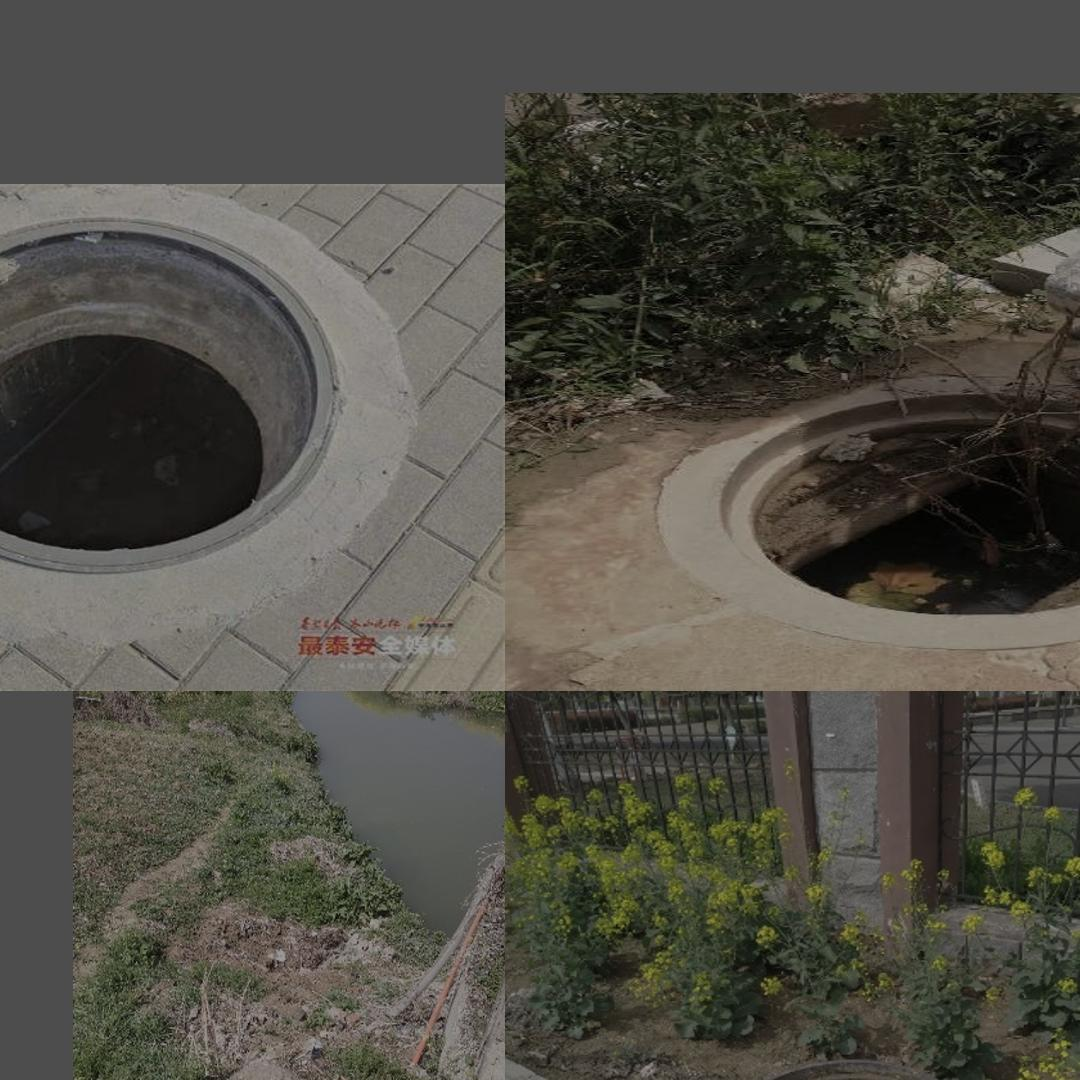lose: (0, 196, 413, 615), (659, 377, 1080, 646), (716, 1057, 974, 1080)
